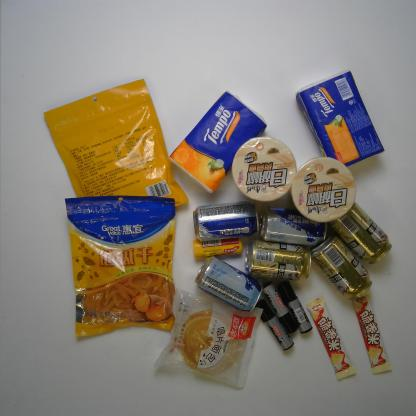Alcohol: (310, 234, 372, 302), (334, 200, 393, 266), (197, 255, 262, 311), (260, 206, 332, 250), (247, 239, 315, 285), (192, 200, 257, 243)
Candy: (189, 238, 243, 261)
Chocolate: (302, 294, 355, 390), (346, 295, 397, 377)
Dessert: (154, 284, 262, 388)
Dried Fruit: (43, 76, 184, 212), (64, 194, 173, 341)
Instant Noodles: (228, 133, 297, 199), (290, 158, 360, 222)
Stationery: (260, 282, 295, 338), (276, 284, 314, 334), (260, 304, 293, 355)
Tissue: (170, 90, 265, 193), (296, 69, 386, 169)
